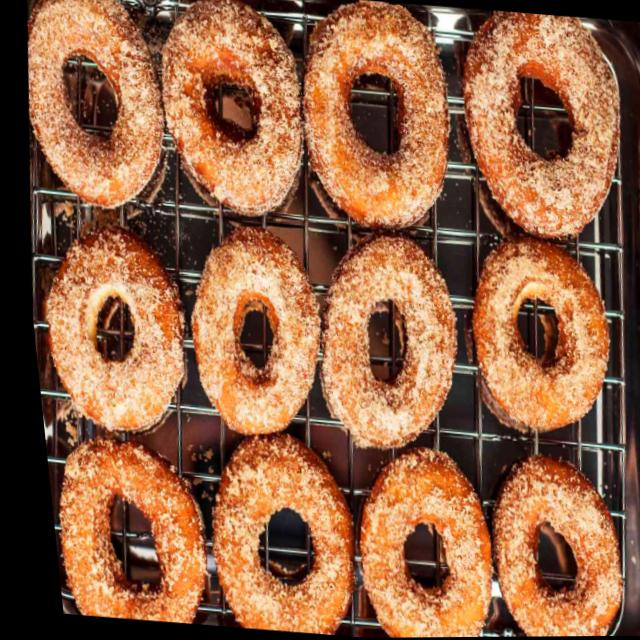donut: (439, 7, 639, 247), (281, 0, 465, 236), (289, 227, 467, 455), (140, 0, 319, 225), (18, 217, 195, 442), (8, 0, 183, 217), (446, 232, 624, 445), (166, 223, 330, 452), (181, 428, 359, 637), (35, 426, 210, 625), (328, 436, 494, 638), (465, 447, 624, 638)
